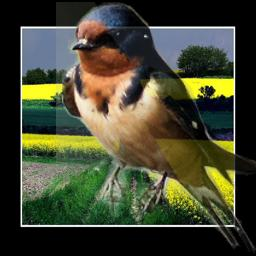Swallow: (56, 2, 256, 255)
